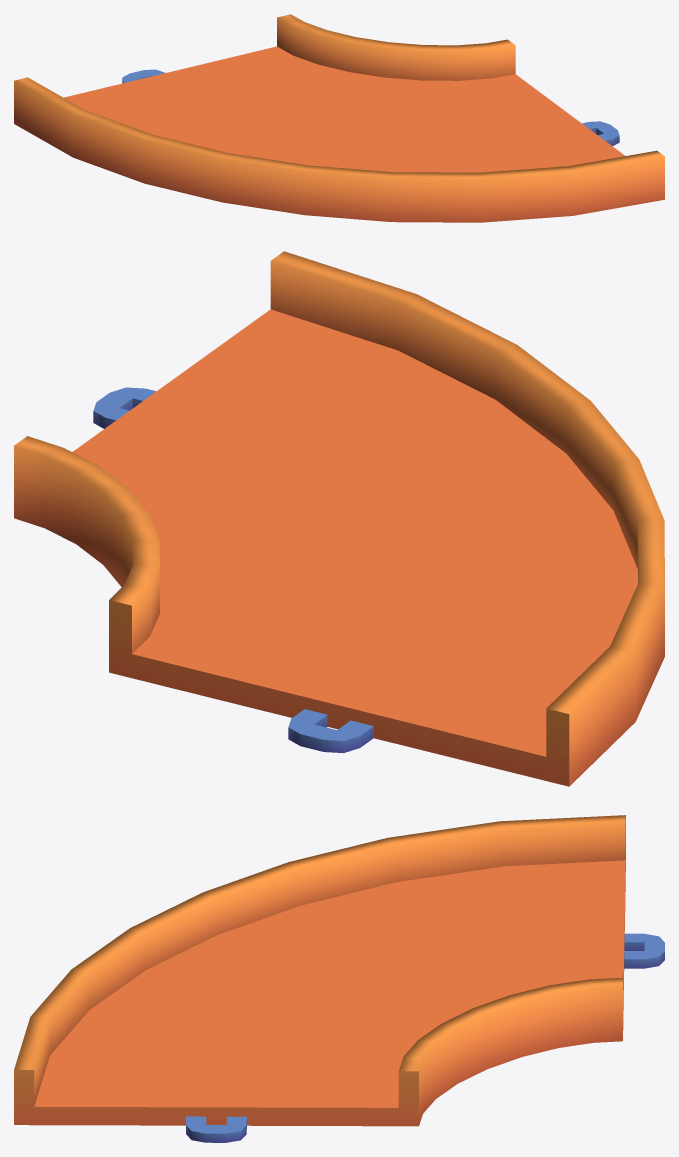
Rendered from track-wide-corner-small.glb.
The picture shows the model from 3 angles, top to bottom: view 1: azimuth 30°, elevation 25°; view 2: azimuth 150°, elevation 25°; view 3: azimuth 270°, elevation 25°; orthographic projection. The views are drawn at different scales.
Visible parts, largest first — view 1: track-wide-corner-small; view 2: track-wide-corner-small; view 3: track-wide-corner-small.
Boxes of the visible parts, x1,y1,x2,y2 form: track-wide-corner-small: (14,14,664,222); track-wide-corner-small: (14,251,664,786); track-wide-corner-small: (14,815,664,1142).
Bounding box in the file's own units: 3.19 × 0.3 × 3.21.
Materials: 1 (1 with a texture image).
